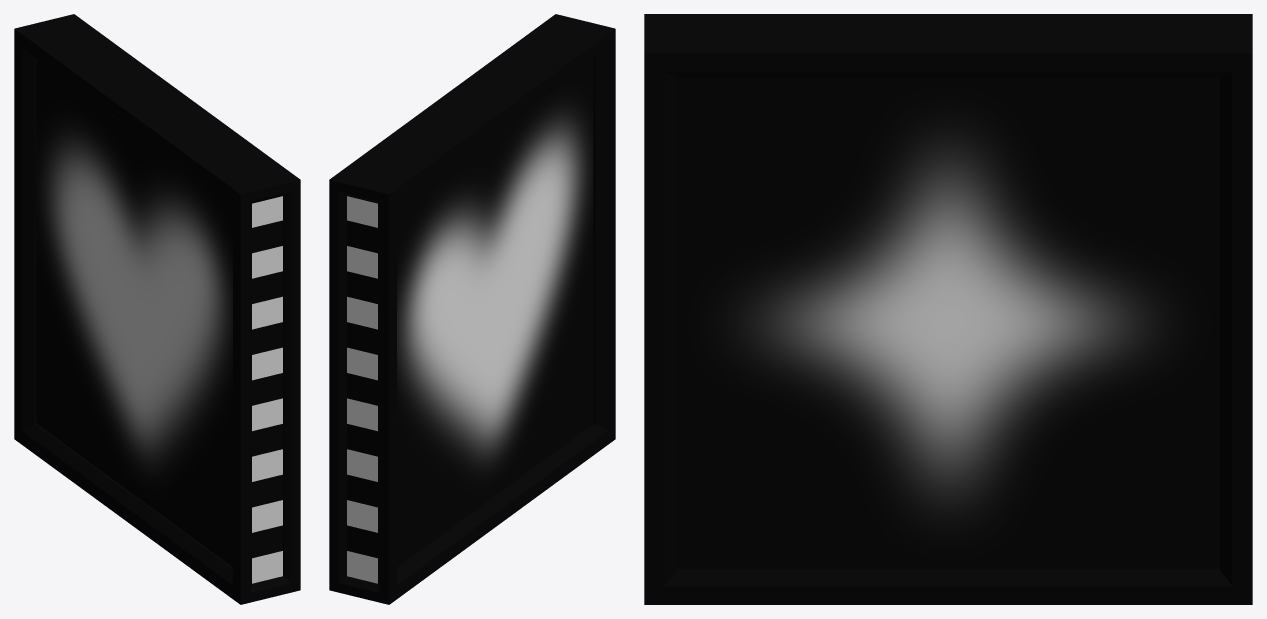
The model's file is block new.fbx.
3 views of the same model, side by side, from view 1: azimuth 30°, elevation 25°; view 2: azimuth 150°, elevation 25°; view 3: azimuth 270°, elevation 25° (orthographic). The views are drawn at different scales.
Visible parts, largest first — view 1: Cube; view 2: Cube; view 3: Cube.
Part boxes in pixels (x1,y1,x2,y2): Cube: (14,14,300,604); Cube: (329,14,615,604); Cube: (644,14,1252,604).
Size of the model in its own units: 30.61 by 200 by 200.
Materials: 4 (2 with a texture image).
